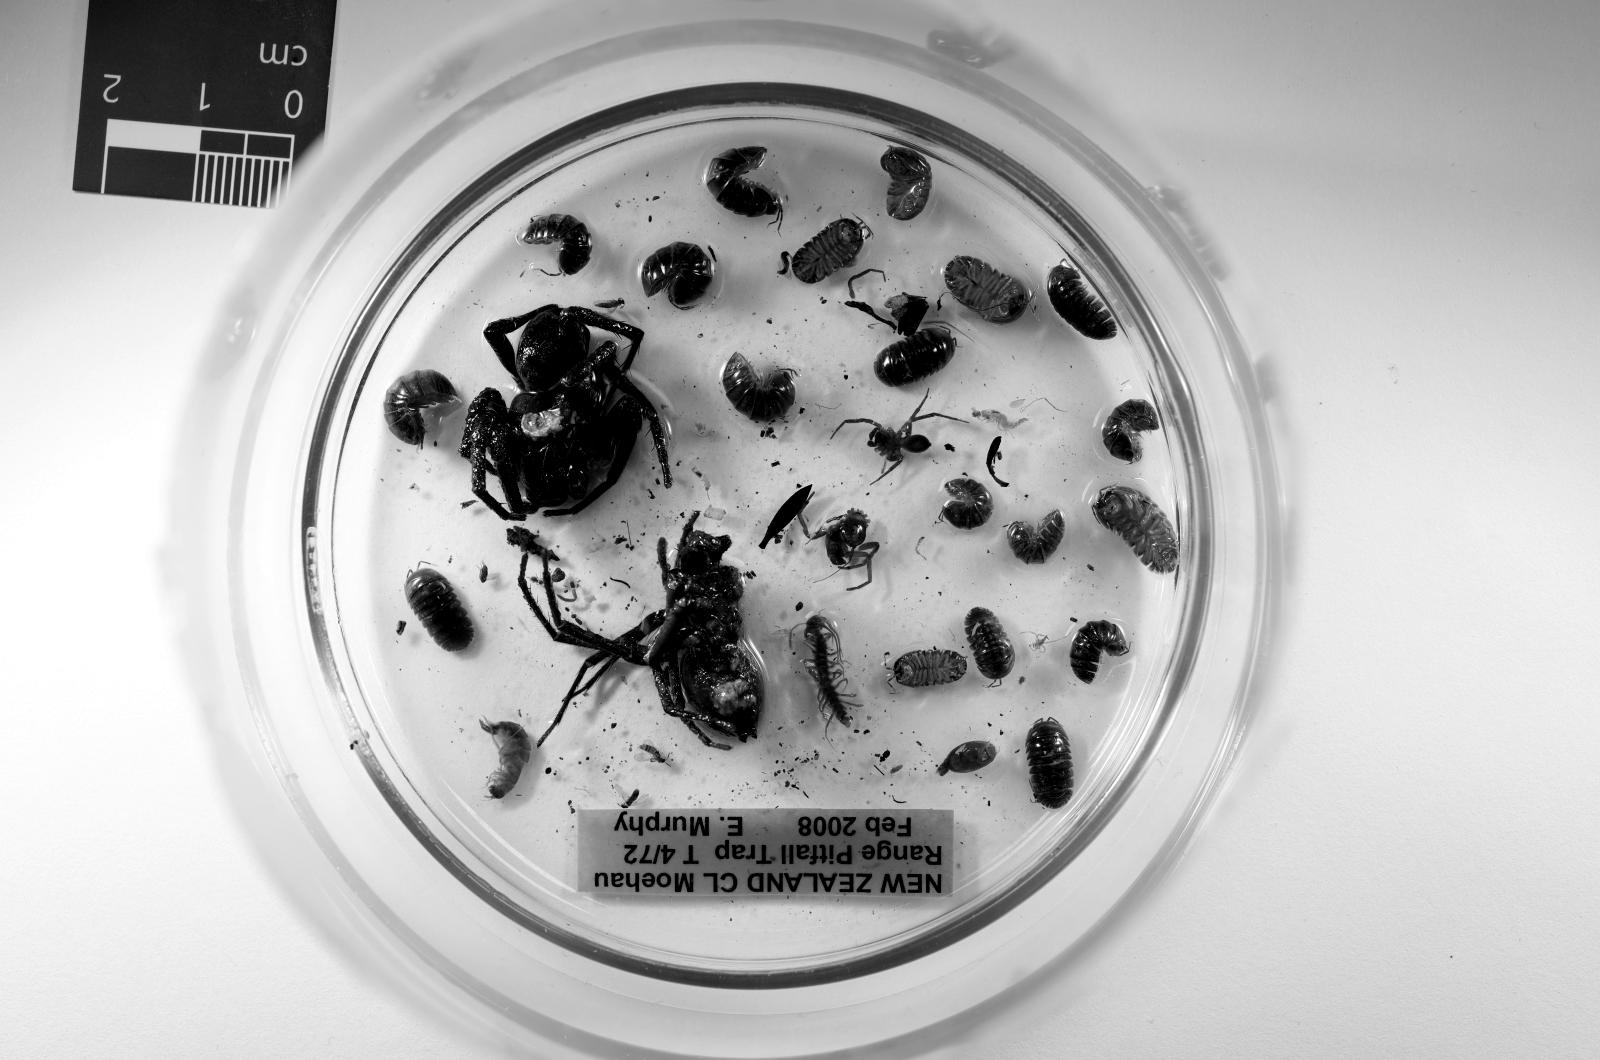amphipoda: (481, 720, 531, 799), (972, 409, 1028, 432)
araneae: (519, 512, 763, 751), (462, 304, 669, 518), (835, 403, 953, 481), (799, 509, 879, 584)
chilopoda: (803, 615, 856, 733)
coleoptera: (637, 742, 669, 764), (618, 789, 641, 810), (594, 298, 626, 310), (778, 252, 791, 277), (478, 565, 487, 584)
isopoda: (1094, 487, 1178, 575), (706, 146, 784, 227), (403, 568, 475, 652), (944, 254, 1031, 323), (384, 369, 459, 447), (1047, 260, 1115, 338), (791, 218, 872, 283), (721, 354, 797, 422), (875, 327, 957, 388), (641, 243, 715, 308), (519, 214, 594, 277), (1025, 717, 1075, 807), (1069, 621, 1128, 684), (881, 146, 931, 220), (966, 608, 1016, 680), (1103, 401, 1159, 463), (1006, 509, 1065, 565), (894, 649, 966, 686), (940, 478, 993, 528)
